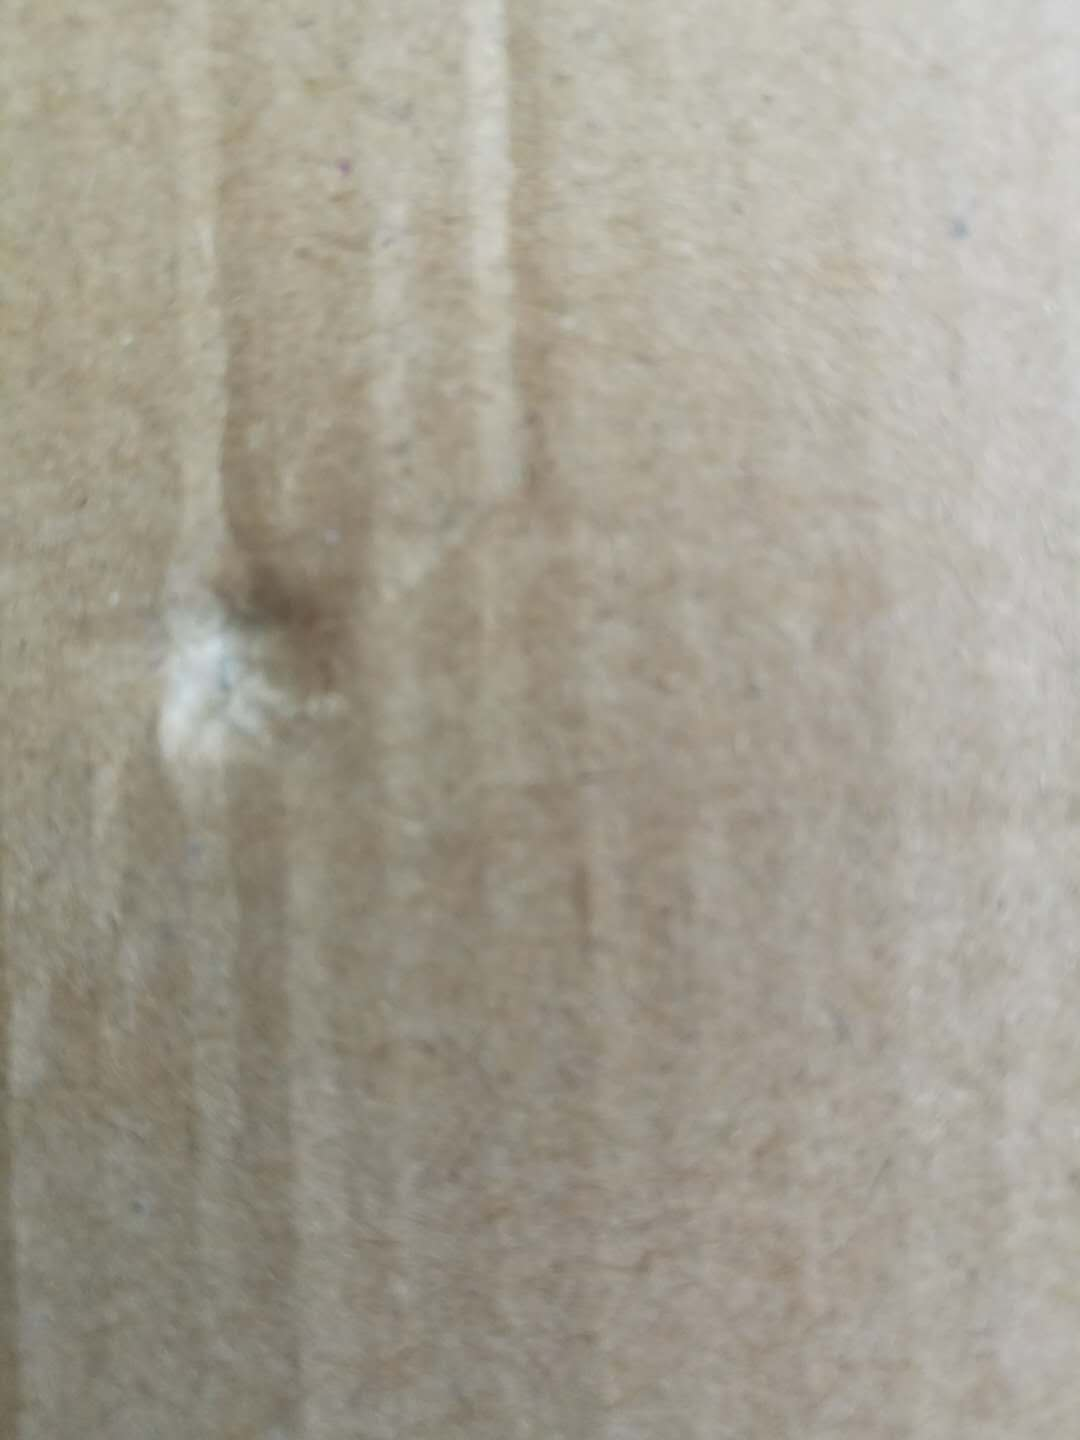defect: (448, 2, 646, 599), (91, 507, 437, 824)
